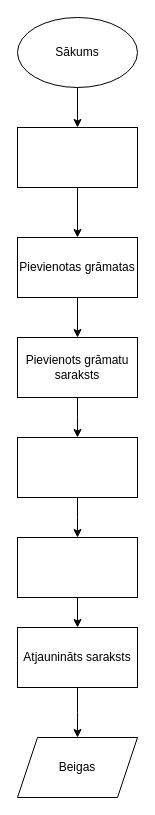
This 155x815 diagram has some shape labels left out. The shapes that lost their labels are listed below. From the top down, each one's box as (x1, y1, x2, y2) in pixels, then its label:
(16, 126, 138, 188): Izveidota bibliotēka
(16, 436, 138, 498): Izvēlas ko aizņemt
(16, 536, 138, 598): Atzīmē ko aizņema
